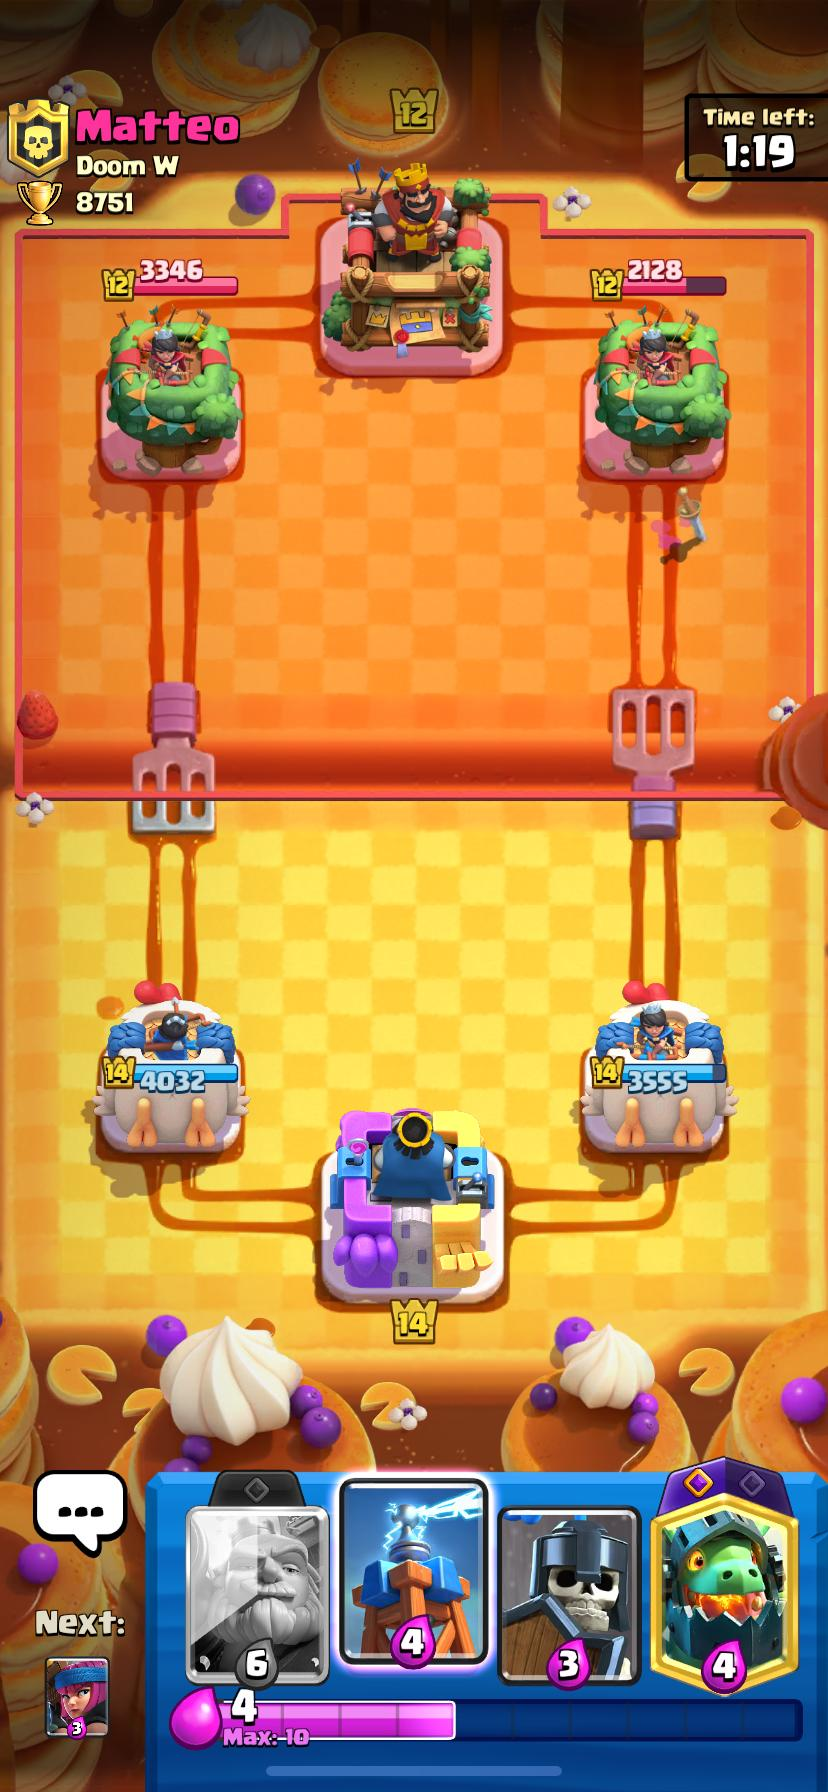EKingTower: (321, 165, 493, 369)
EnemyPrincessTower: (105, 309, 242, 477), (594, 309, 730, 475)
OwnKingTower: (321, 1109, 503, 1303)
OwnPrincessTower: (93, 983, 248, 1152), (581, 982, 735, 1151)
